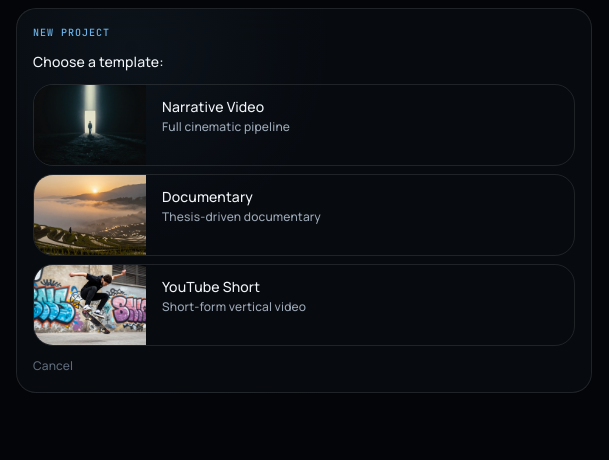
Test: NewProjectInline › Back button returns to template from style
The width and height of the screenshot is (609, 460).
What coordinates should you click on to do the following:
click the text "Narrative Video"
I would click on:
 (213, 106)
Its box is [162,97,264,116].
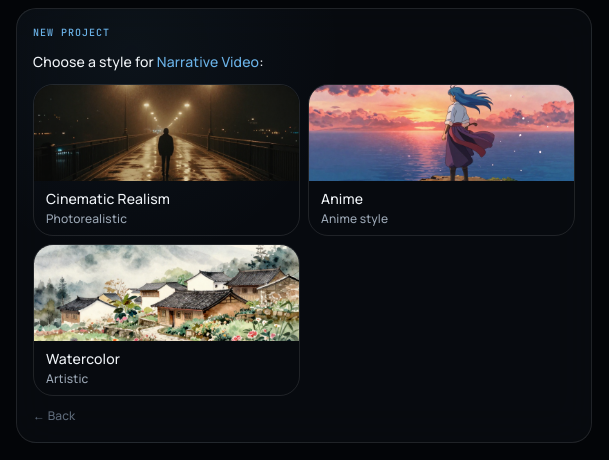
Expected: the text "Cinematic Realism" is shown, [46,189,170,208]
What coordinates should you click on to do the following:
click the button "← Back"
I would click on:
 (54, 416)
Its box is [33,408,75,424].
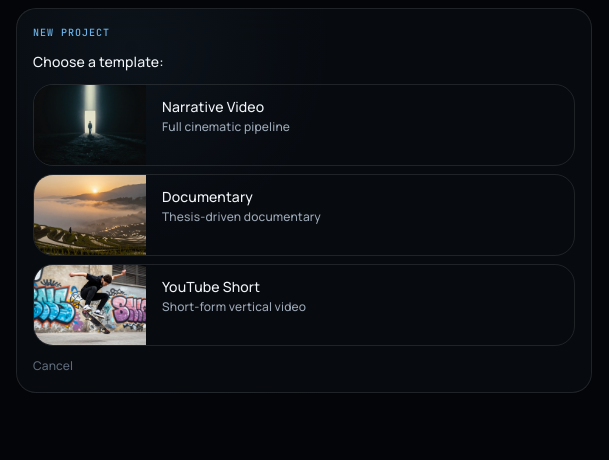
Expected: the text "Narrative Video" is shown, [162,97,264,116]
Expected: the text "Documentary" is shown, [162,187,253,206]
